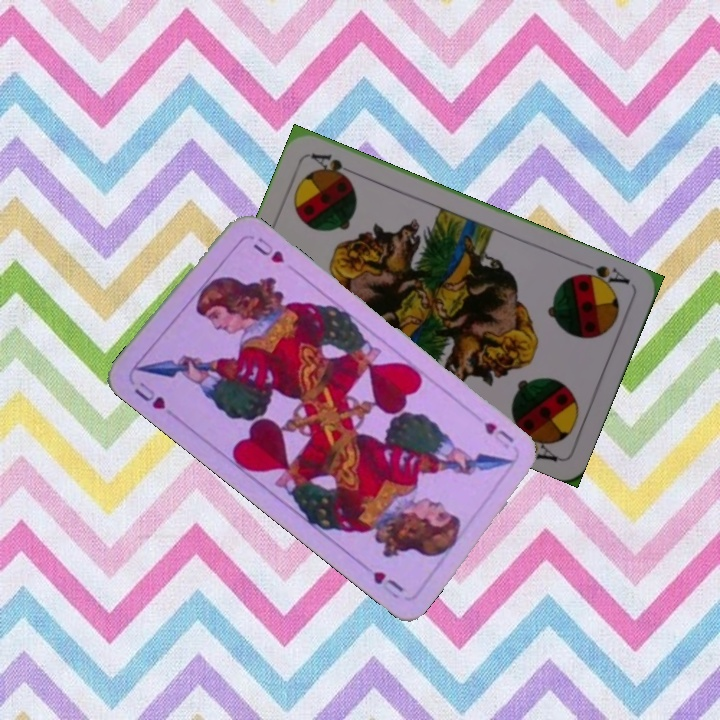HU: (130, 377, 168, 413), (480, 417, 517, 445)
SA: (573, 258, 633, 293)
